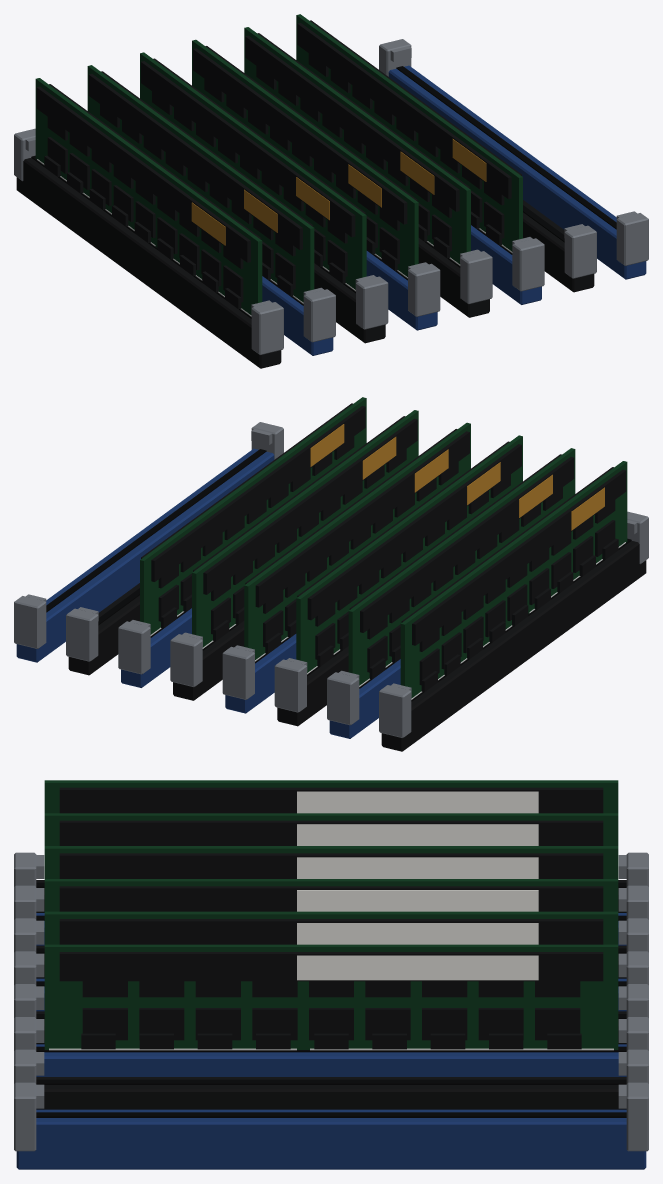
File: hwm_ram_ddr4_256gb.glb
The picture shows the model from 3 angles, top to bottom: view 1: azimuth 30°, elevation 25°; view 2: azimuth 150°, elevation 25°; view 3: azimuth 270°, elevation 25°; orthographic projection. The views are drawn at different scales.
Visible parts, largest first — view 1: Slots, Stick_0, Stick_1, Stick_4, Stick_3, Stick_2, Stick_5, Latch_2_1, Latch_1_1, Latch_4_1, Latch_0_1, Latch_5_1 (+5 smaller); view 2: Slots, Stick_0, Stick_1, Stick_4, Stick_3, Stick_2, Stick_5, Latch_2_0, Latch_1_0, Latch_4_0, Latch_0_0, Latch_5_0 (+5 smaller); view 3: Slots, Stick_5, Stick_0, Stick_4, Stick_1, Stick_2, Stick_3, Latch_7_0, Latch_7_1, Latch_2_0, Latch_2_1, Latch_6_0 (+11 smaller).
Part boxes in pixels (x1,y1,x2,y2): Slots: (16, 65, 646, 368); Stick_0: (35, 78, 262, 316); Stick_1: (87, 65, 314, 303); Stick_4: (244, 27, 470, 265); Stick_3: (192, 39, 418, 278); Stick_2: (140, 52, 366, 291); Stick_5: (296, 14, 522, 252); Latch_2_1: (355, 275, 388, 329); Latch_1_1: (303, 287, 335, 342); Latch_4_1: (460, 249, 492, 303); Latch_0_1: (251, 300, 283, 354); Latch_5_1: (512, 237, 544, 291); Slots: (16, 448, 646, 751); Stick_0: (400, 461, 627, 699); Stick_1: (348, 448, 575, 686); Stick_4: (192, 410, 418, 648); Stick_3: (244, 422, 470, 661); Stick_2: (296, 435, 522, 674); Stick_5: (140, 397, 366, 635); Latch_2_0: (274, 658, 307, 712); Latch_1_0: (327, 670, 359, 725); Latch_4_0: (170, 632, 202, 686); Latch_0_0: (379, 683, 411, 737); Latch_5_0: (118, 620, 150, 674); Slots: (16, 880, 646, 1169); Stick_5: (44, 944, 618, 1050); Stick_0: (44, 780, 618, 813); Stick_4: (44, 911, 618, 944); Stick_1: (44, 813, 618, 845); Stick_2: (44, 846, 618, 878); Stick_3: (44, 879, 618, 911); Latch_7_0: (618, 1082, 648, 1151); Latch_7_1: (14, 1082, 44, 1151); Latch_2_0: (618, 918, 648, 952); Latch_2_1: (14, 918, 44, 952); Latch_6_0: (618, 1049, 648, 1083).
Bounding box in the file's own units: 0.1346 × 0.0389 × 0.1472.
